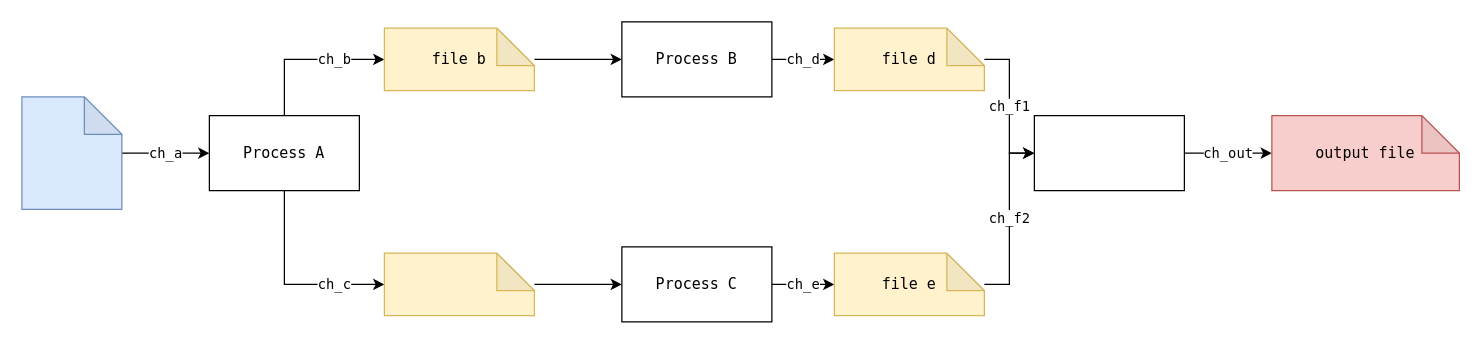
Image size: 1481x344. Some labels were removed from this diagram. The shapes that lost their labels are listed below. From the top down, each one's box as (x1, y1, x2, y2) in pixels, then its label:
(21, 96, 122, 209): input-file
(1033, 114, 1184, 191): Process F
(383, 252, 534, 316): file c
